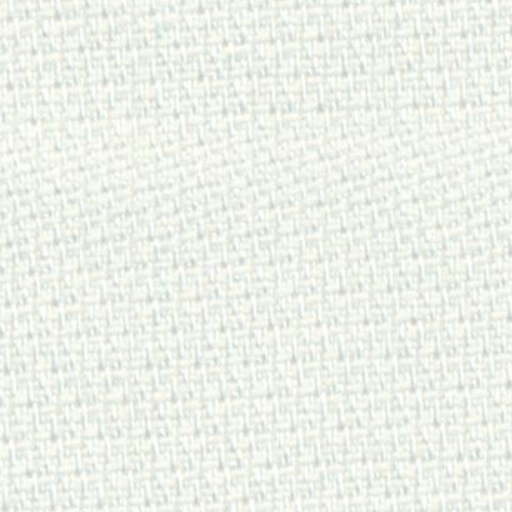TuoSha: (25, 87, 498, 368)
